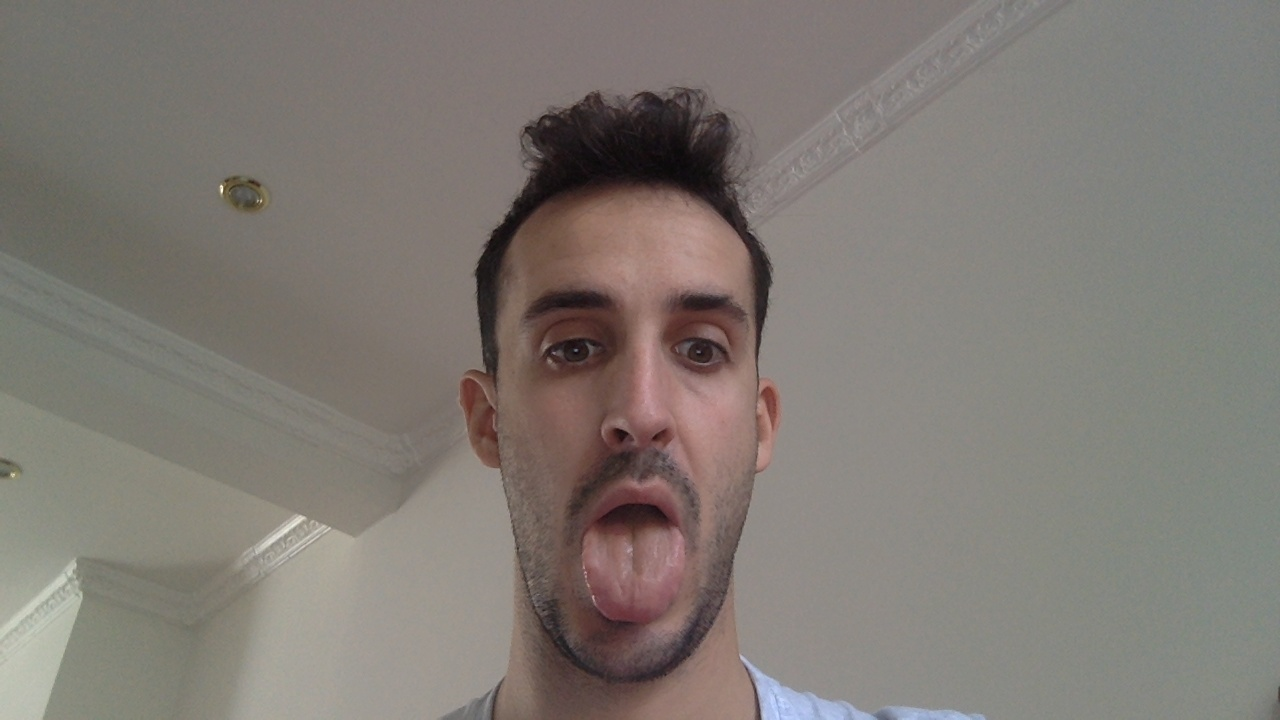tongue: (564, 467, 696, 628)
